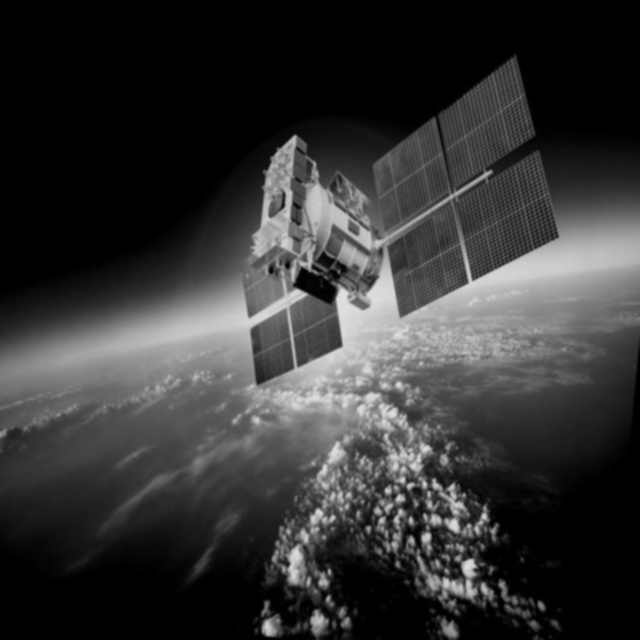medium_debris: (190, 27, 574, 418)
